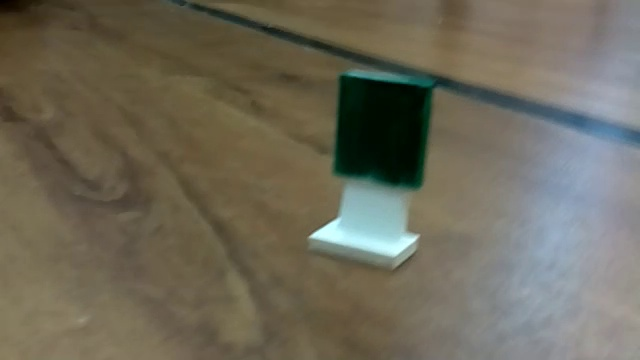rect: (292, 64, 449, 280)
